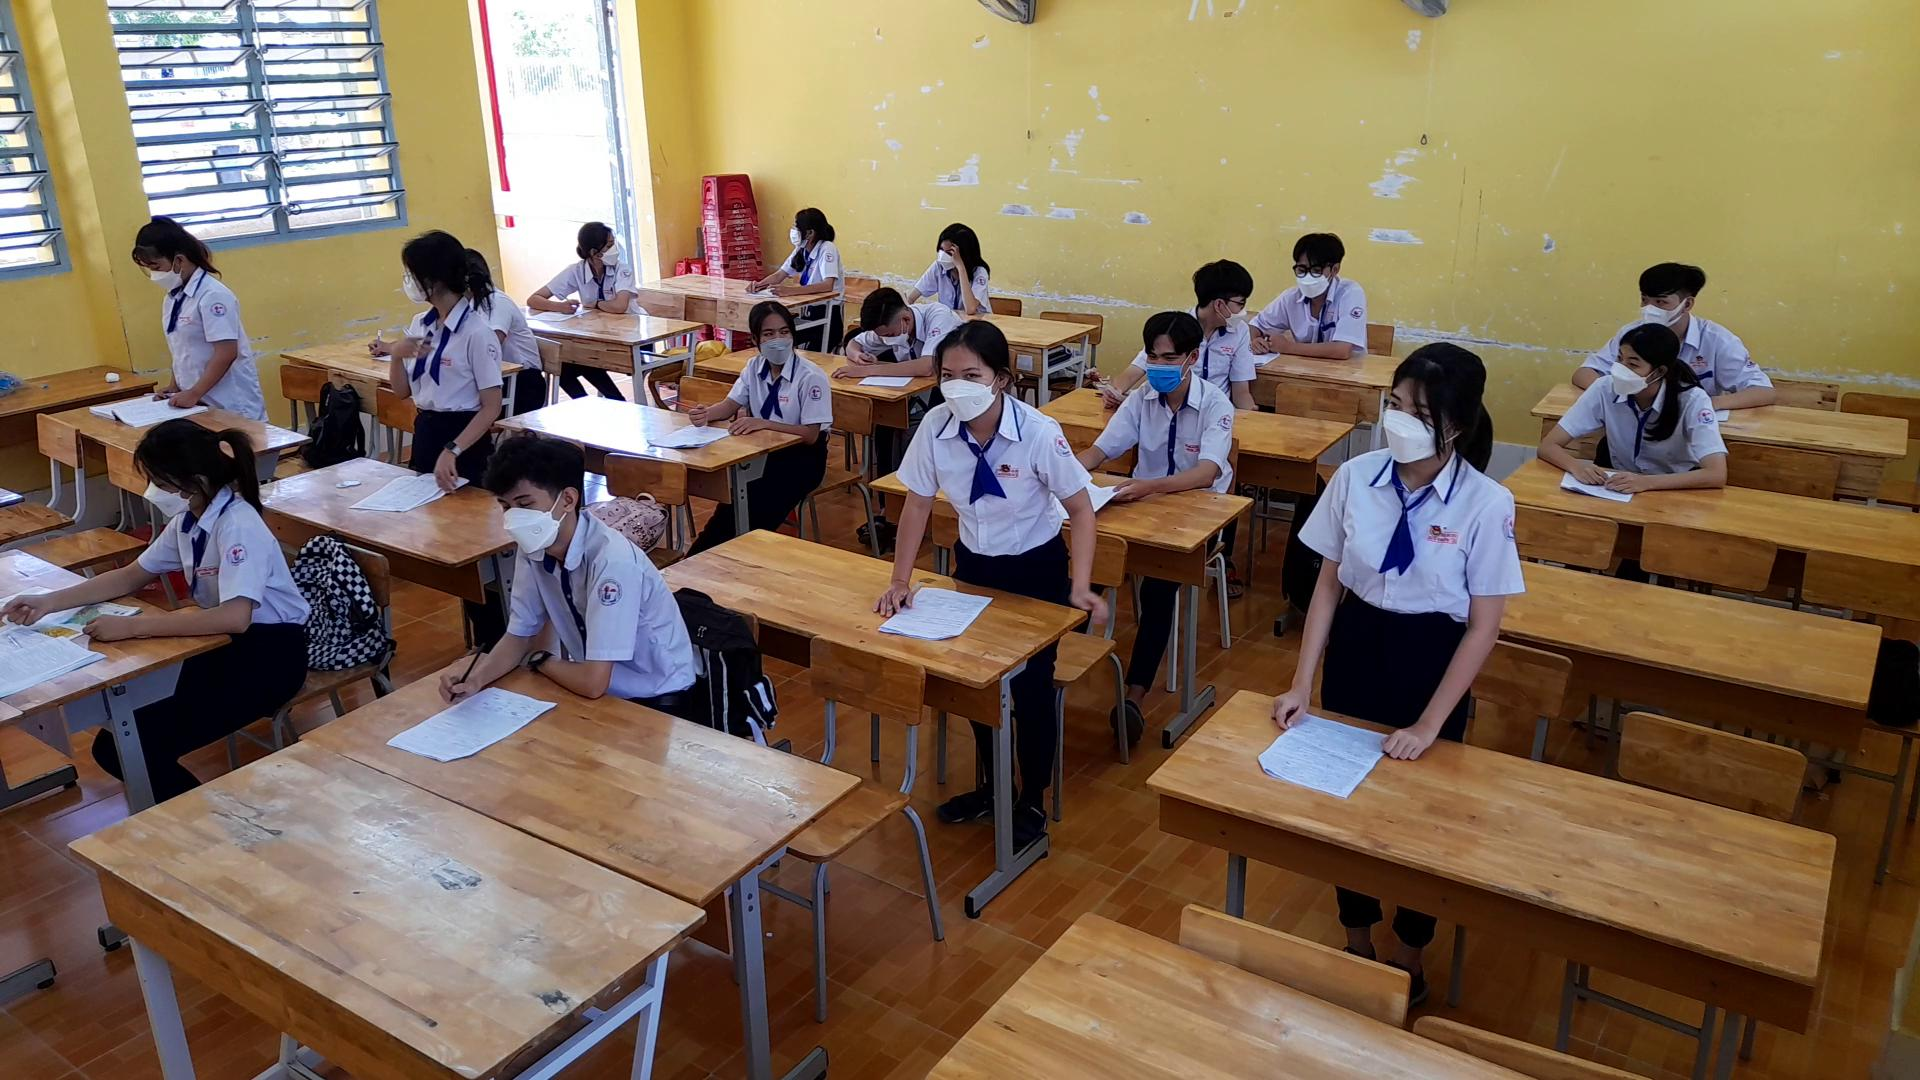Look Around: (1182, 255, 1255, 324), (564, 212, 625, 273)
Normal: (425, 430, 702, 708), (11, 415, 316, 629), (1077, 309, 1236, 502), (680, 294, 840, 448), (1254, 220, 1374, 367)
Stand Up: (1265, 334, 1536, 761), (876, 305, 1097, 636), (371, 219, 512, 491), (123, 208, 262, 425)
Wave: (948, 252, 986, 314)
